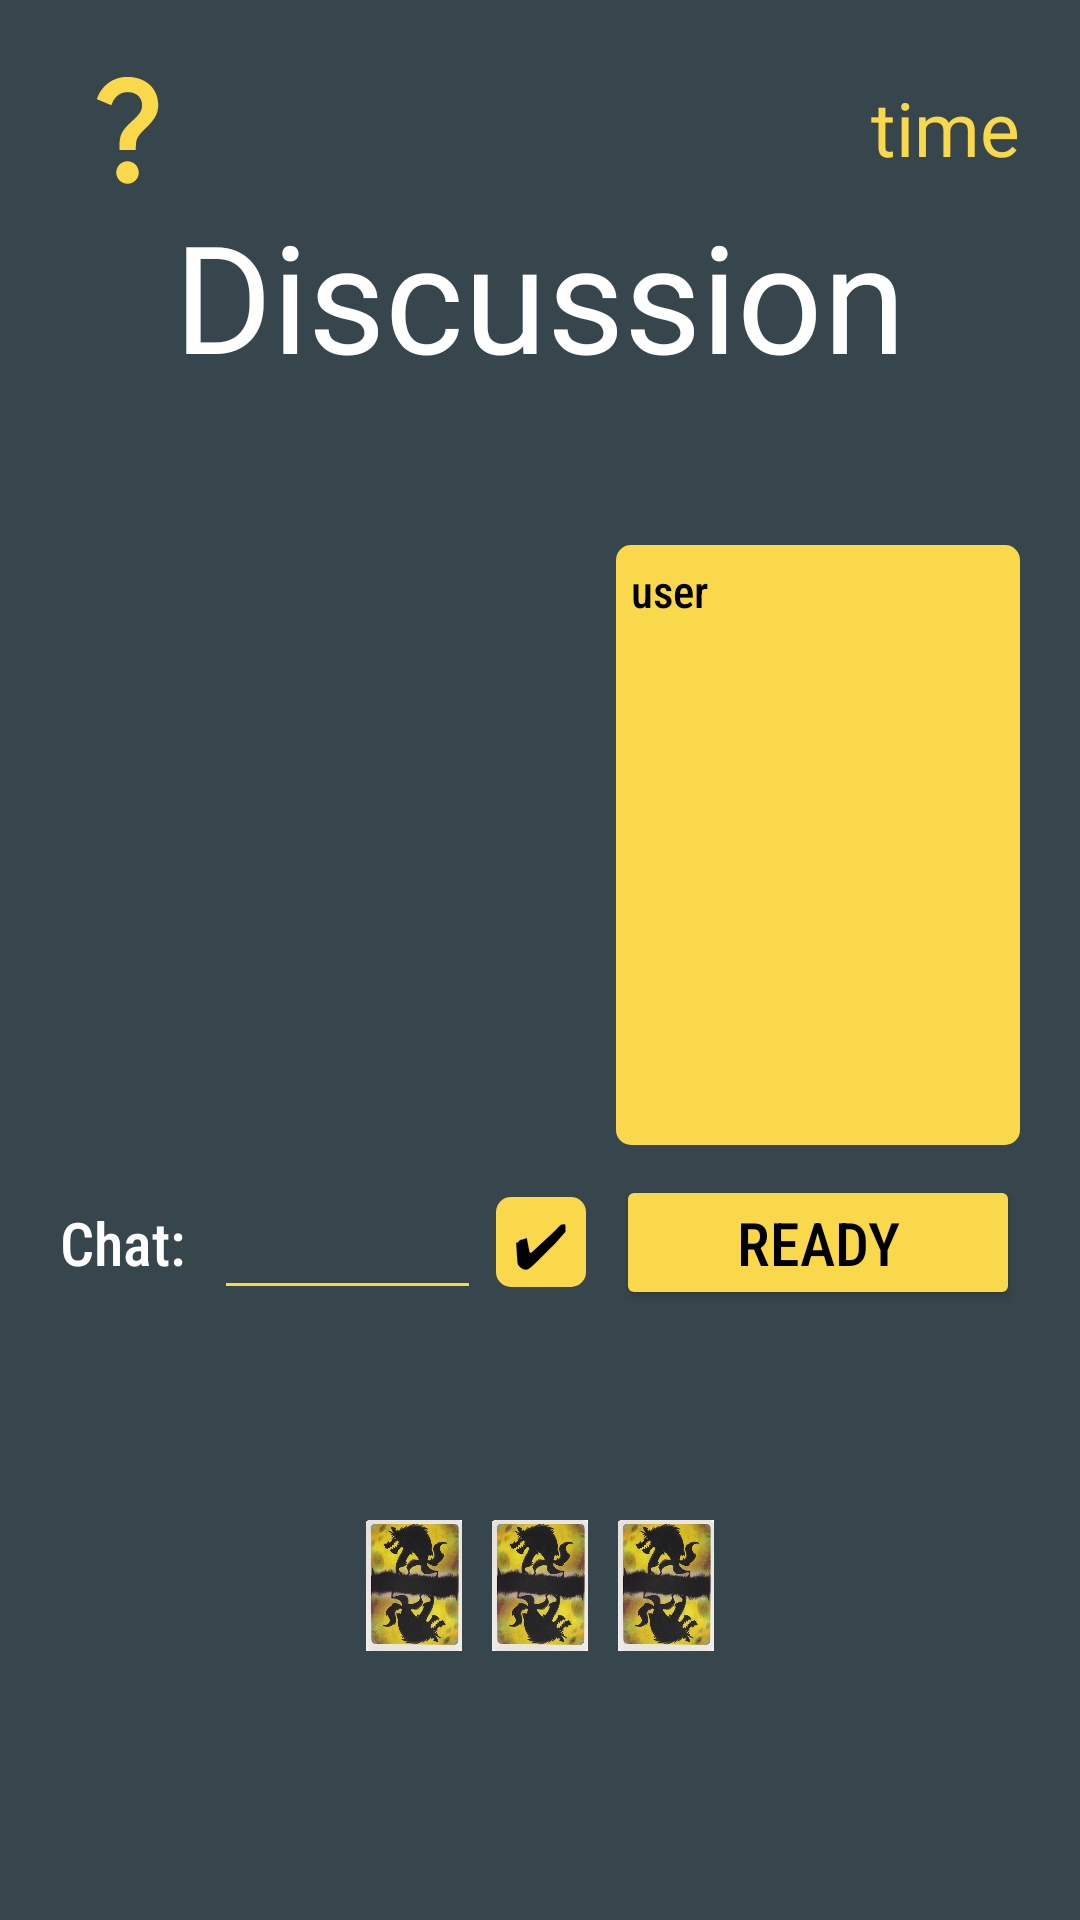

Named icons in this screenshot (1080 × 1920) and their centers, point (x, y):
card back: point (414, 1585), point (540, 1585), point (666, 1585)
qmark: point (128, 130)
